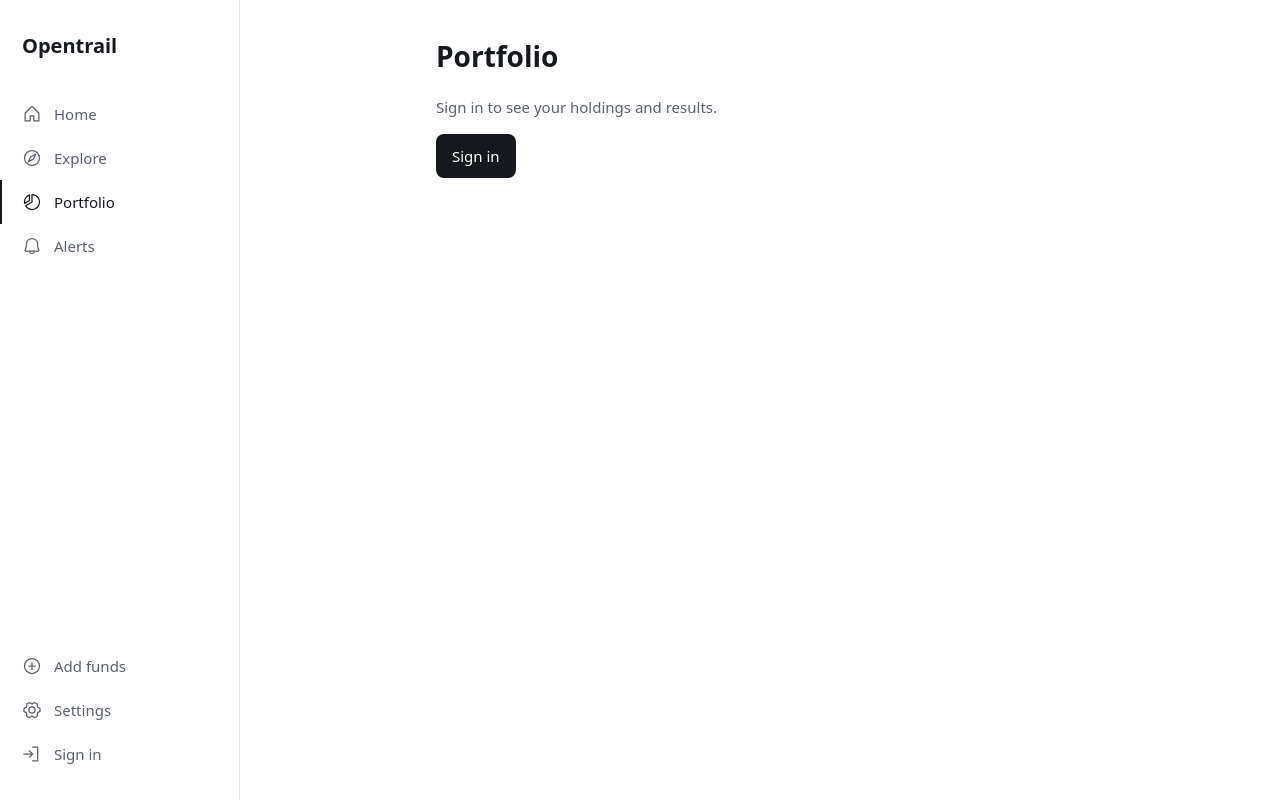
Scenario: pages that need sign-in › shows the page once the visitor signs in
Click the 1st button "Sign in" at coordinates (476, 156), box [436, 134, 516, 178]
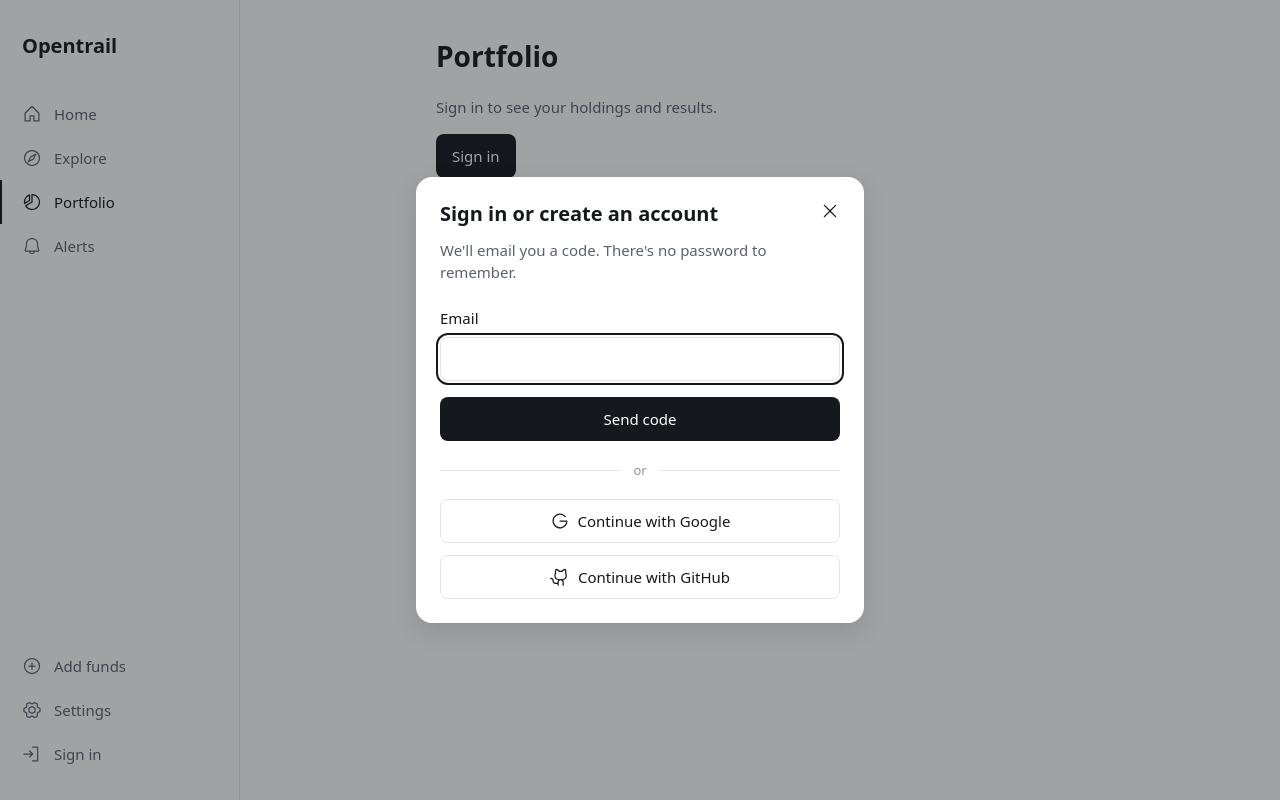
Type "maya@example.com" into the field labelled "Email" at coordinates (640, 359), box [440, 337, 840, 381]
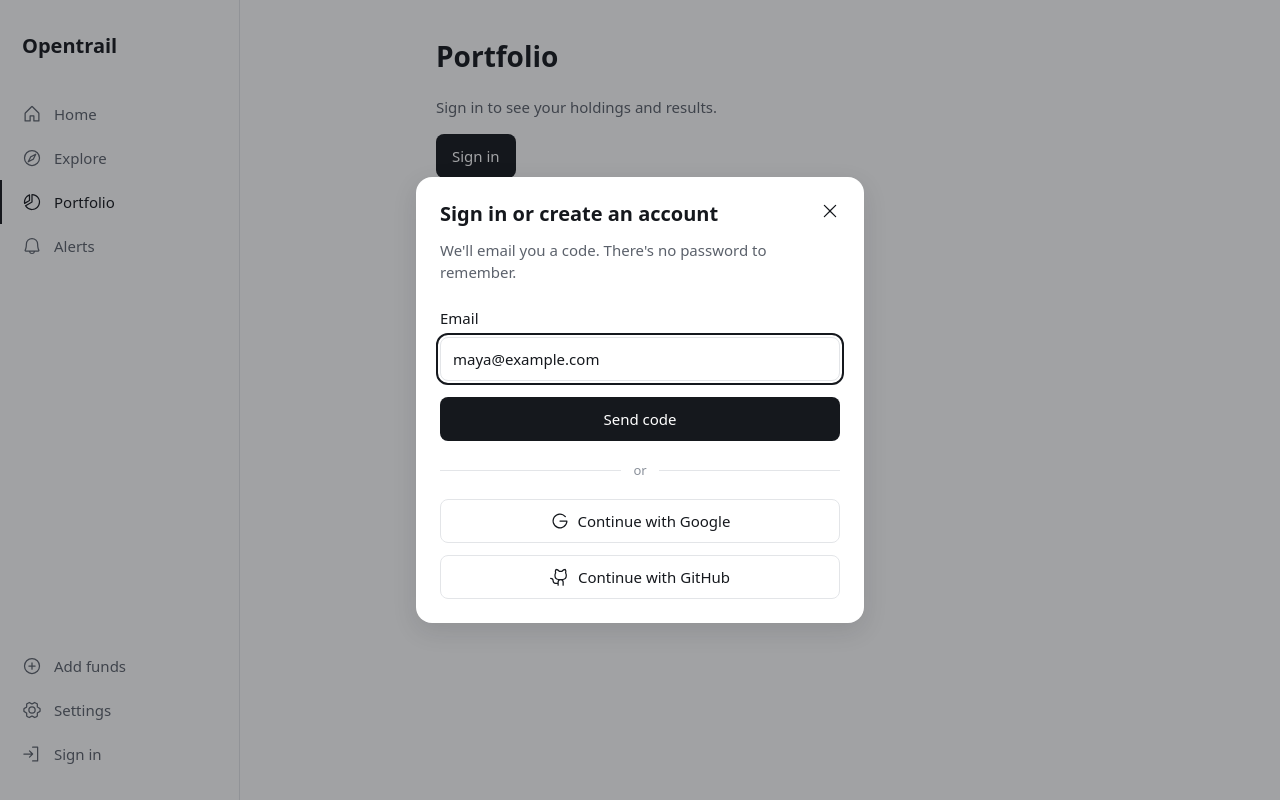
Click the button "Send code" at coordinates (640, 419), box [440, 397, 840, 441]
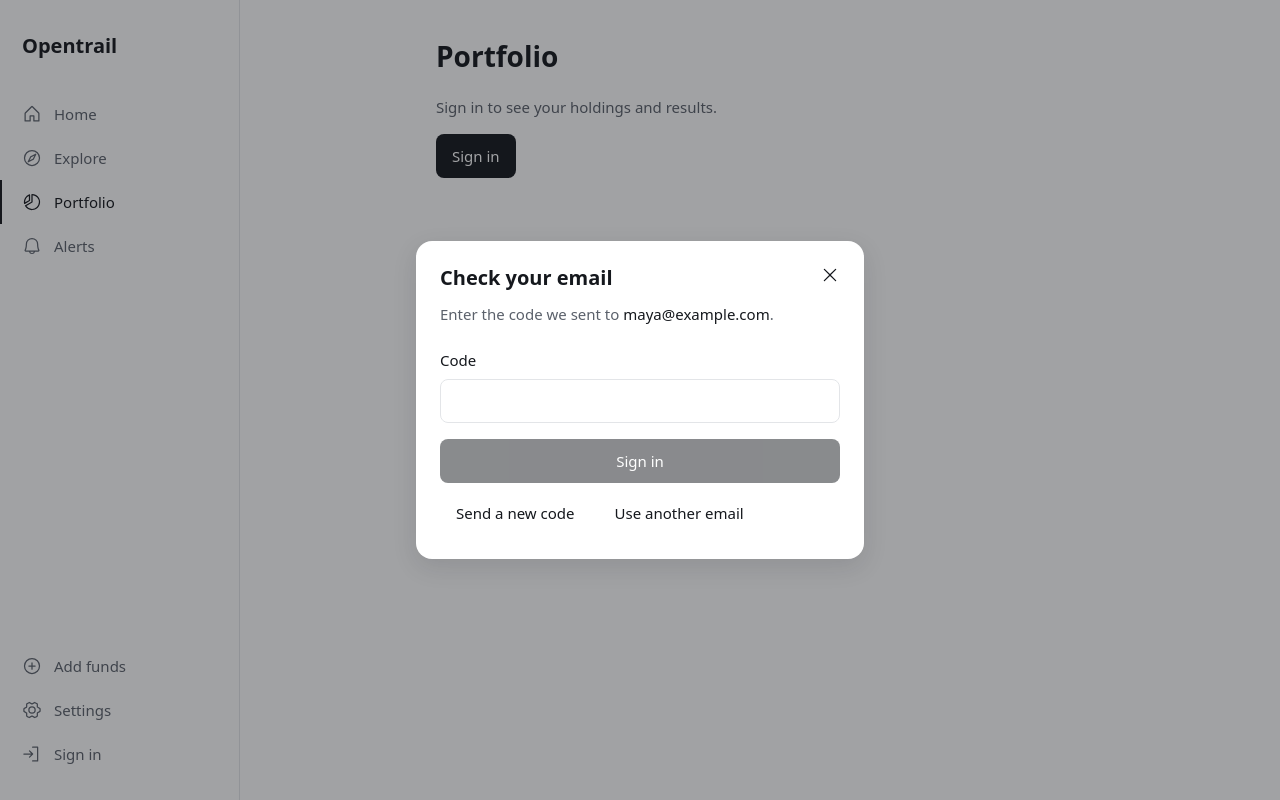
Type "123456" into the field labelled "Code" at coordinates (640, 401), box [440, 379, 840, 423]
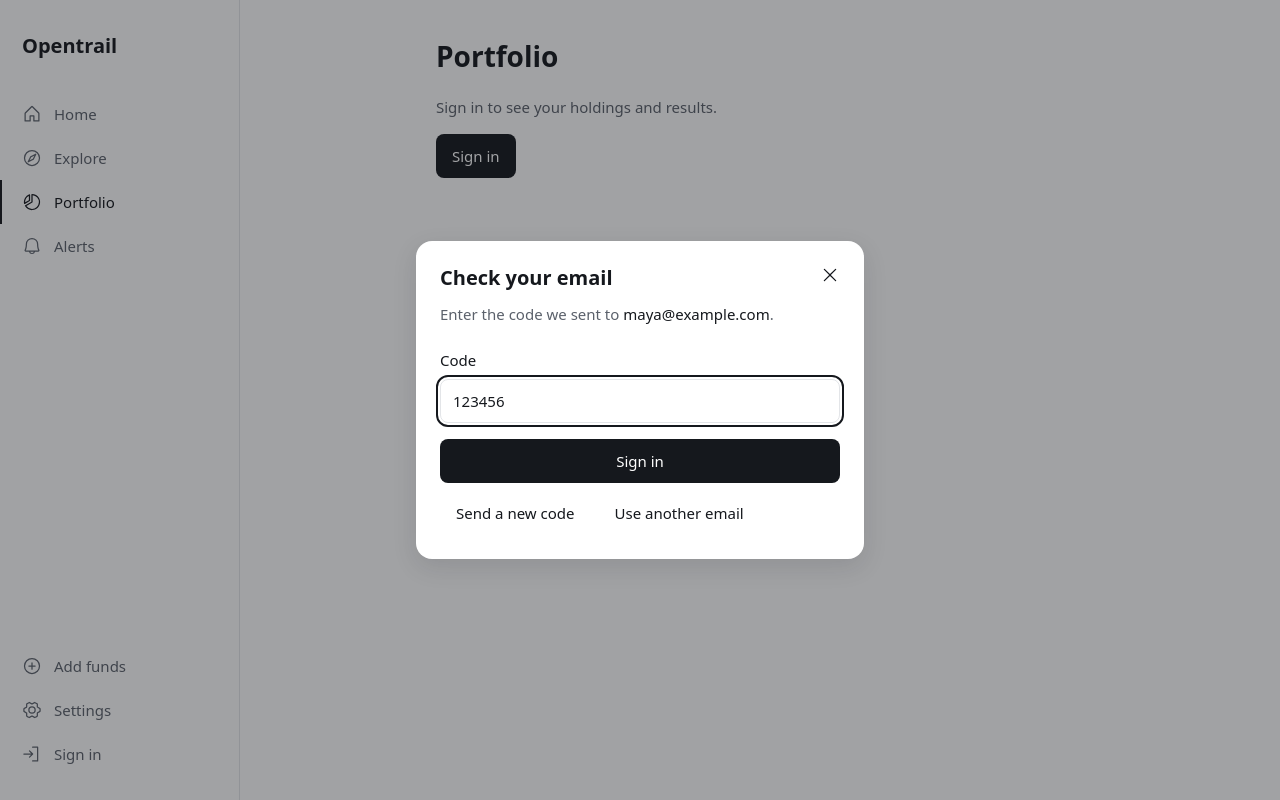
Click the button "Sign in" at coordinates (640, 461), box [440, 439, 840, 483]
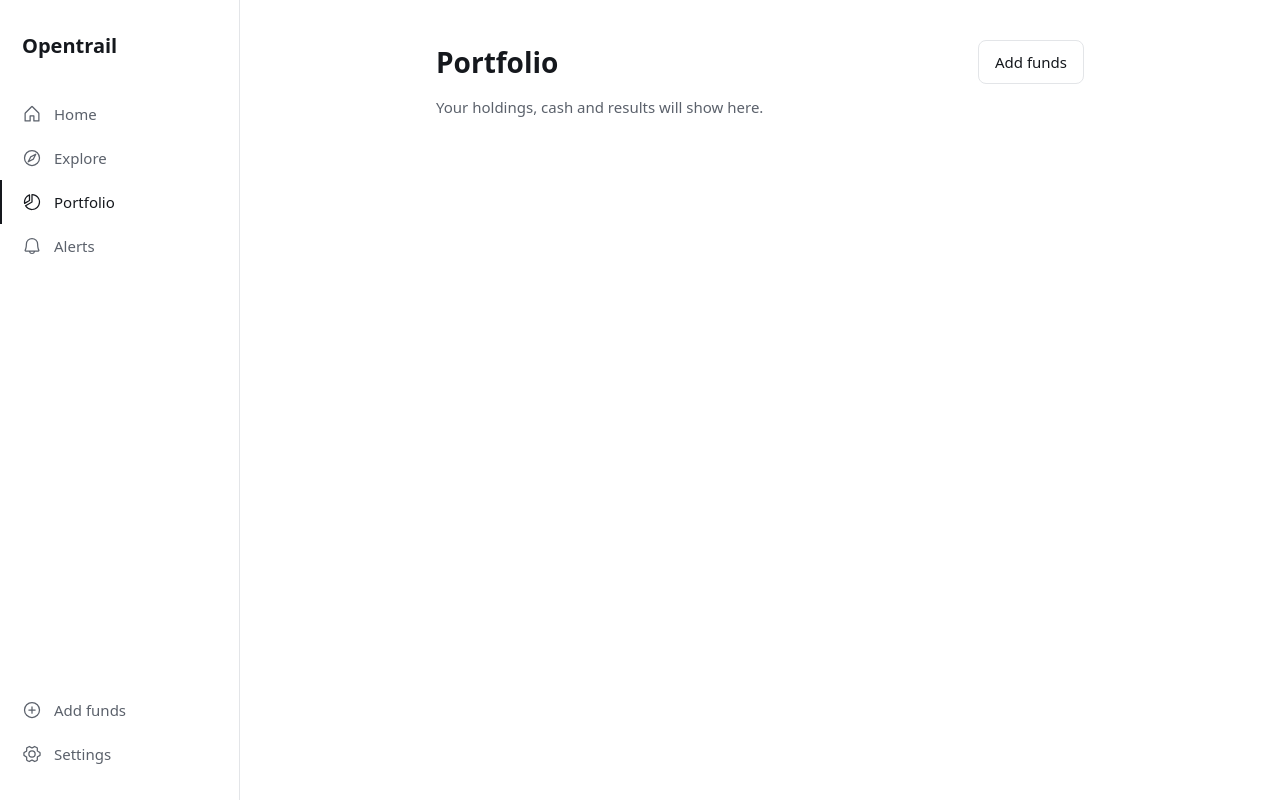
Result: the text "Your holdings, cash and results will show here." is shown at [436, 97, 763, 117]
